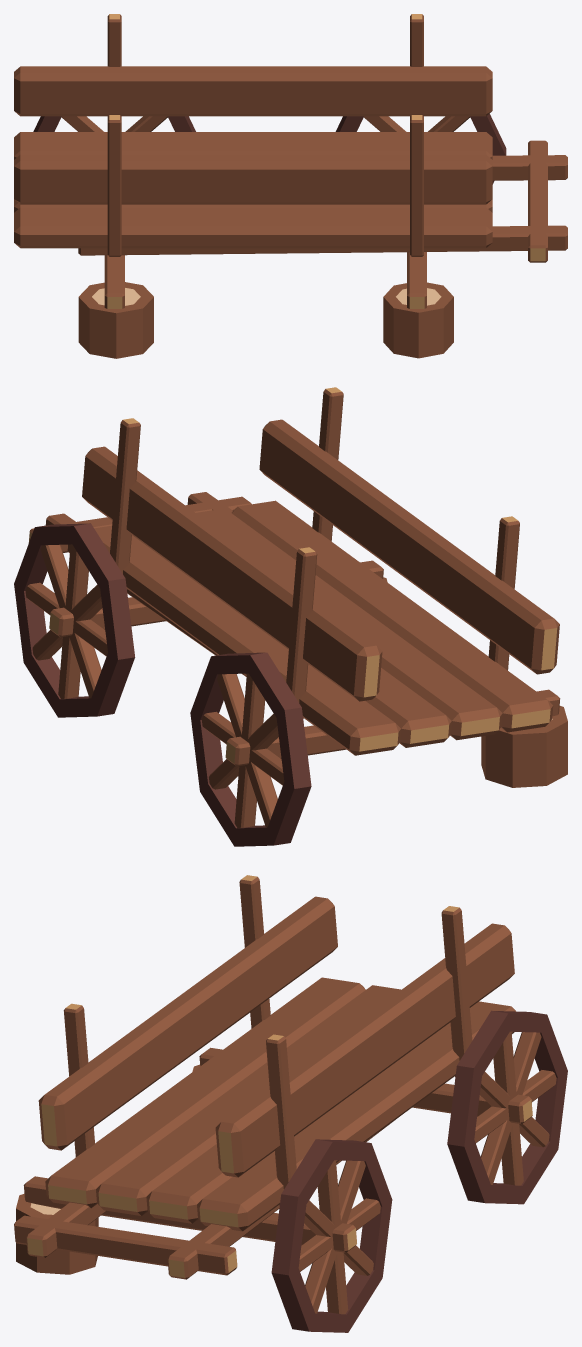
File: Broken Cart.fbx
3 views of the same model, one above another, from view 1: azimuth 30°, elevation 25°; view 2: azimuth 150°, elevation 25°; view 3: azimuth 270°, elevation 25° (orthographic). The views are drawn at different scales.
Visible parts, largest first — view 1: Broken_Cart; view 2: Broken_Cart; view 3: Broken_Cart.
Boxes of the visible parts, <box> form: Broken_Cart: <box>14,14,567,358</box>; Broken_Cart: <box>14,387,567,846</box>; Broken_Cart: <box>14,875,567,1332</box>.
Size of the model in its own units: 1.14 by 0.5272 by 0.9461.
